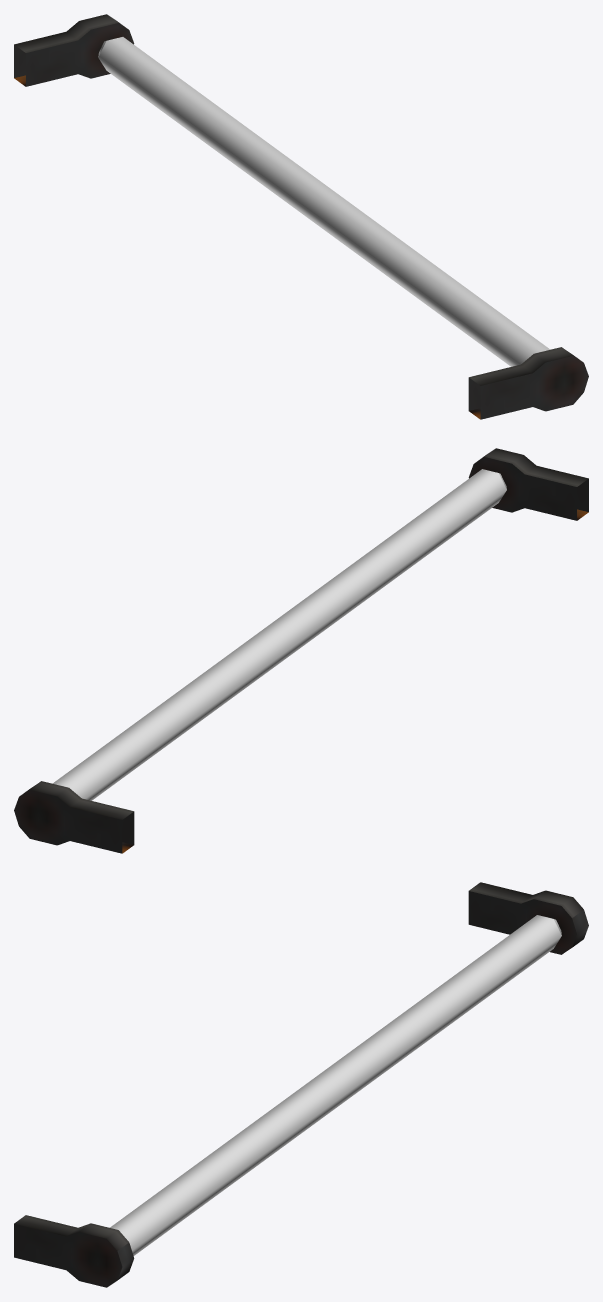
Rendered from Light_long_1.FBX.
3 views of the same model, one above another, from view 1: azimuth 30°, elevation 25°; view 2: azimuth 150°, elevation 25°; view 3: azimuth 330°, elevation 25° (orthographic).
Visible parts, largest first — view 1: Light_long, Light_3_base; view 2: Light_long, Light_3_base; view 3: Light_long, Light_3_base.
Part boxes in pixels (left/top/right/bottom): Light_long: left=98, top=37, right=549, bottom=366; Light_3_base: left=14, top=14, right=588, bottom=419; Light_long: left=53, top=469, right=506, bottom=800; Light_3_base: left=14, top=448, right=588, bottom=853; Light_long: left=110, top=915, right=561, bottom=1255; Light_3_base: left=14, top=882, right=588, bottom=1287.
Bounding box in the file's own units: 35.68 × 15.42 × 266.
